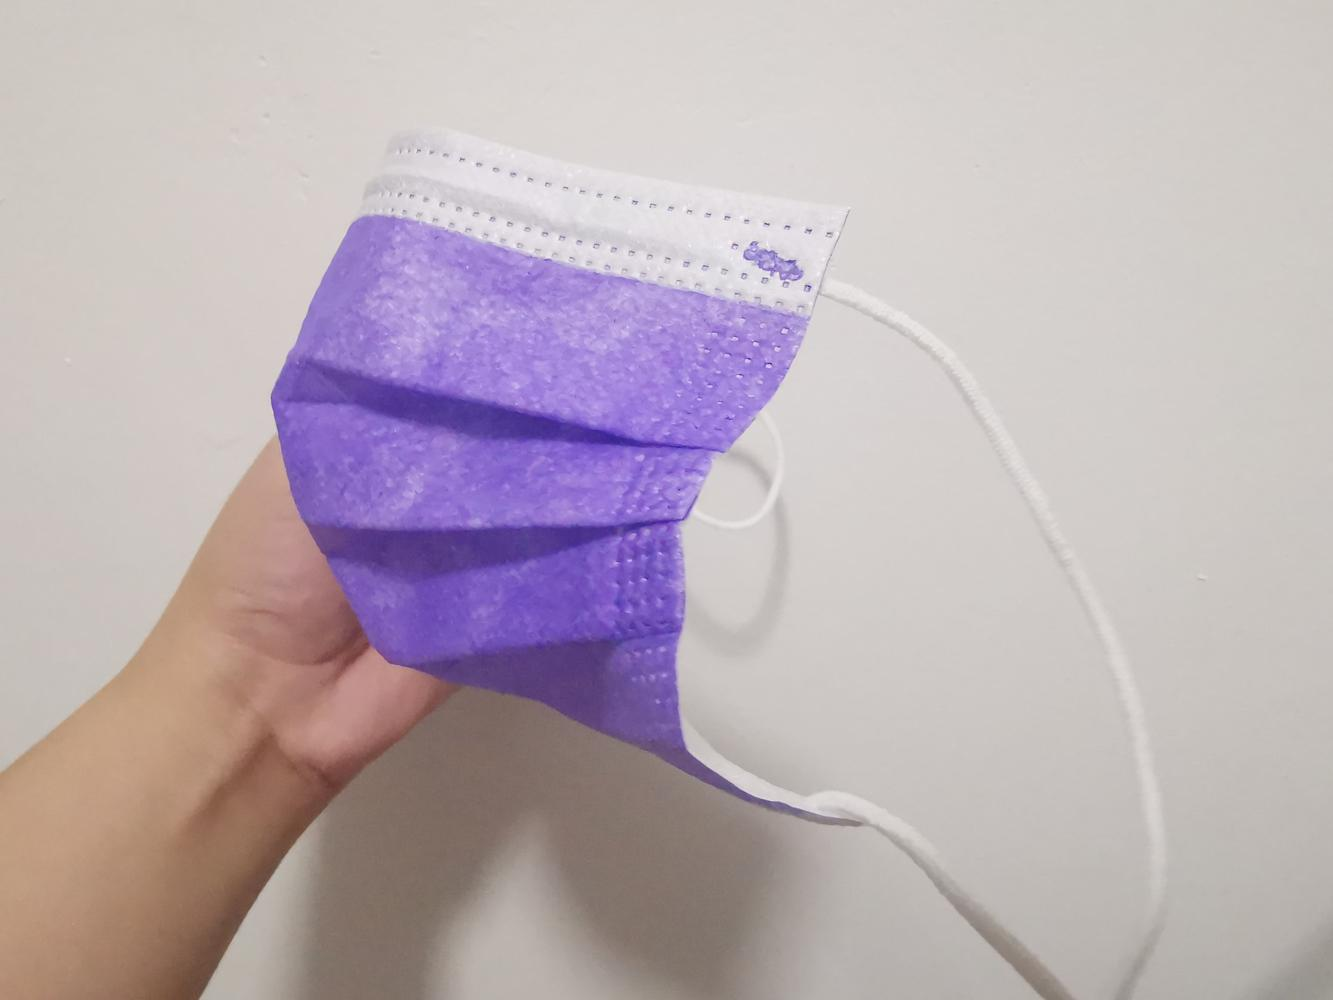Face Mask: (272, 133, 904, 855)
Undefined Object: (6, 433, 424, 1000)
